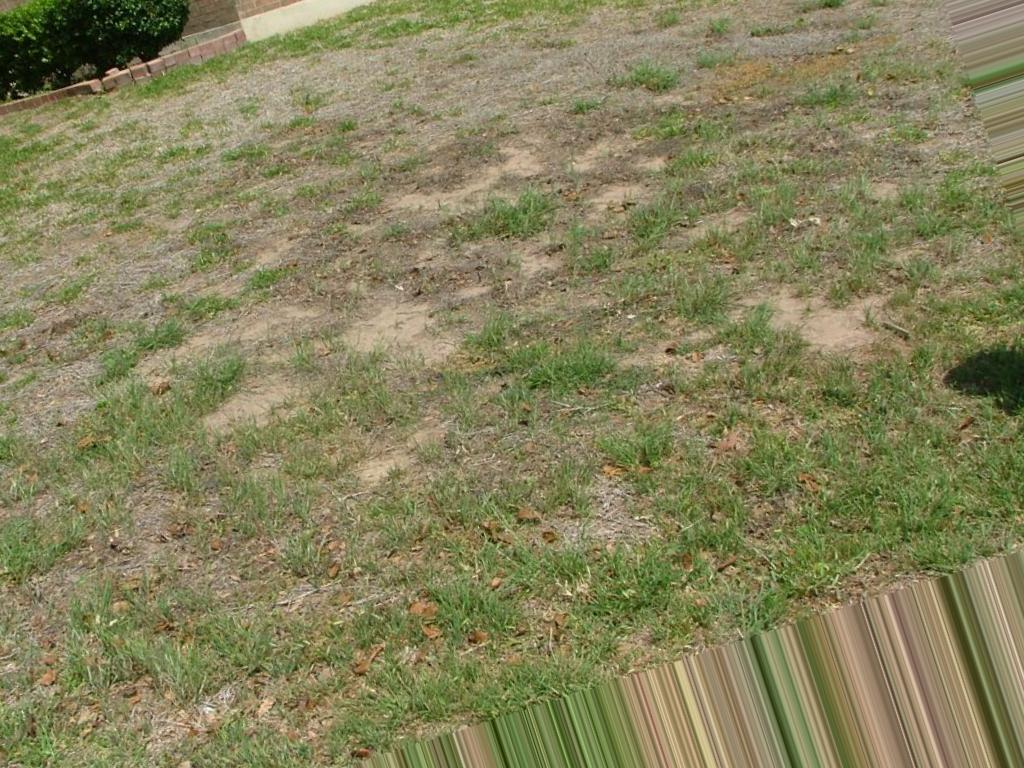patch: (58, 143, 513, 428), (89, 491, 502, 661), (322, 21, 586, 111)
